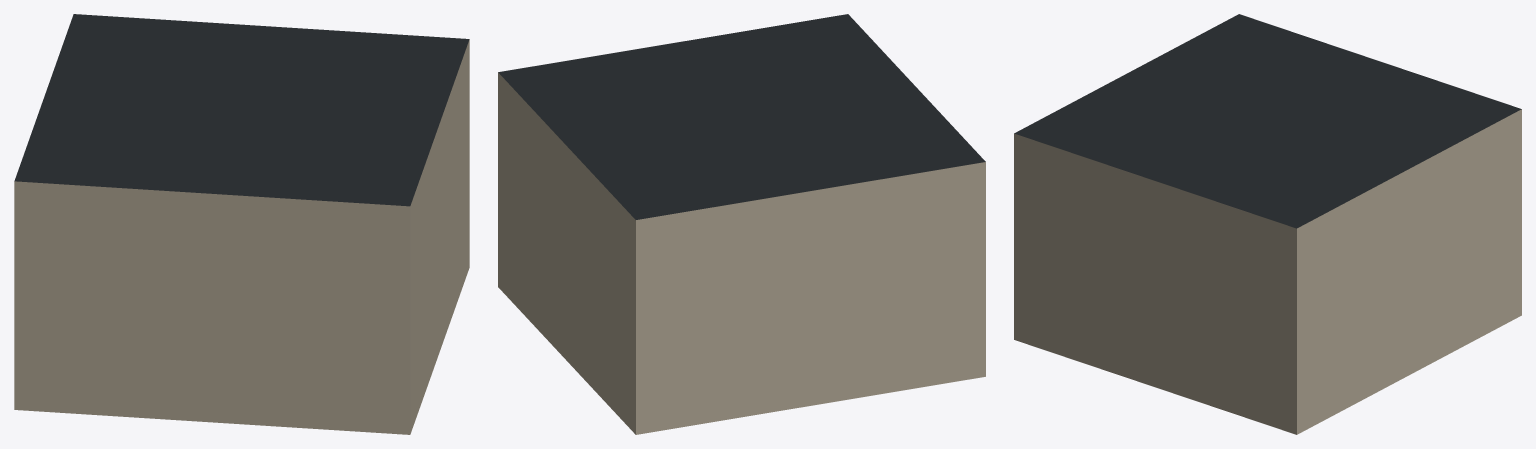
3 views of the same model, side by side, from view 1: azimuth 30°, elevation 25°; view 2: azimuth 150°, elevation 25°; view 3: azimuth 270°, elevation 25° (orthographic). The views are drawn at different scales.
Visible parts, largest first — view 1: tuile; view 2: tuile; view 3: tuile.
Boxes of the visible parts, left/top/right/bottom form: tuile: left=14, top=14, right=469, bottom=434; tuile: left=498, top=14, right=985, bottom=434; tuile: left=1014, top=14, right=1521, bottom=434.
Bounding box in the file's own units: 8.8 × 3.95 × 8.8.
